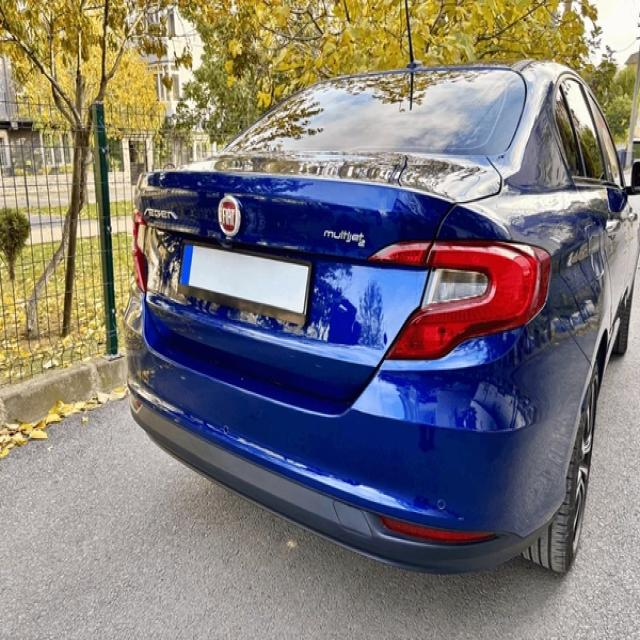fiat: (210, 198, 247, 238)
